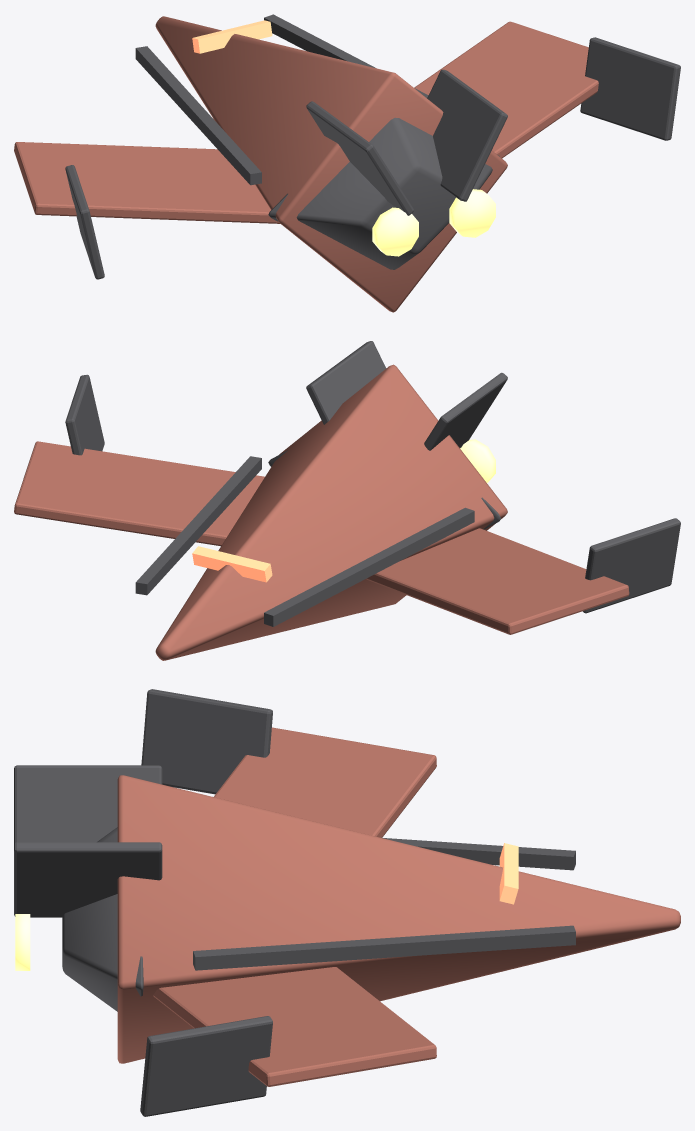
Rendered from tarn.glb.
3 renders of one model, top to bottom at view 1: azimuth 30°, elevation 25°; view 2: azimuth 150°, elevation 25°; view 3: azimuth 270°, elevation 25°, orthographic. The views are drawn at different scales.
Visible parts, largest first — view 1: Rumpf.001, Fluegel-1, Fluegel1, Heck, Spitze1, Leitwerk1, Kante-1, Leitwerk-1, Duese-1.001, Duese1.001, Kante1, Spitze-1 (+1 smaller); view 2: Rumpf.001, Fluegel1, Fluegel-1, Spitze-1, Kante-1, Kante1, Leitwerk1, Leitwerk-1, Spitze1, Auge.003, Duese-1.001; view 3: Rumpf.001, Fluegel1, Fluegel-1, Spitze-1, Spitze1, Leitwerk1, Leitwerk-1, Kante1, Heck, Kante-1, Auge.003, Duese1.001.
Part boxes in pixels (box(x1,y1,x2,y2)): Rumpf.001: box(155, 16, 507, 312); Fluegel-1: box(14, 142, 280, 223); Fluegel1: box(414, 21, 598, 158); Heck: box(268, 117, 499, 269); Spitze1: box(580, 37, 680, 140); Leitwerk1: box(427, 69, 507, 201); Kante-1: box(135, 46, 261, 185); Leitwerk-1: box(306, 101, 413, 215); Duese-1.001: box(372, 207, 418, 256); Duese1.001: box(449, 189, 495, 237); Kante1: box(264, 14, 428, 97); Spitze-1: box(65, 165, 104, 279); Rumpf.001: box(155, 364, 507, 660); Fluegel1: box(14, 441, 264, 546); Fluegel-1: box(366, 528, 629, 634); Spitze-1: box(583, 518, 680, 613); Kante-1: box(264, 507, 474, 626); Kante1: box(135, 456, 261, 595); Leitwerk1: box(306, 341, 386, 424); Leitwerk-1: box(424, 372, 507, 450); Spitze1: box(65, 374, 104, 455); Auge.003: box(192, 546, 272, 582); Duese-1.001: box(460, 439, 495, 483); Rumpf.001: box(117, 775, 680, 1063); Fluegel1: box(153, 967, 436, 1086); Fluegel-1: box(214, 727, 436, 837); Spitze-1: box(141, 689, 272, 794); Spitze1: box(140, 1016, 272, 1116); Leitwerk1: box(14, 842, 162, 917); Leitwerk-1: box(14, 765, 162, 844); Kante1: box(193, 925, 575, 970); Heck: box(62, 827, 143, 1011); Kante-1: box(381, 837, 575, 870); Auge.003: box(499, 843, 518, 904); Duese1.001: box(15, 914, 30, 970).
Bounding box in the file's own units: 2.82 × 1.07 × 2.25.
